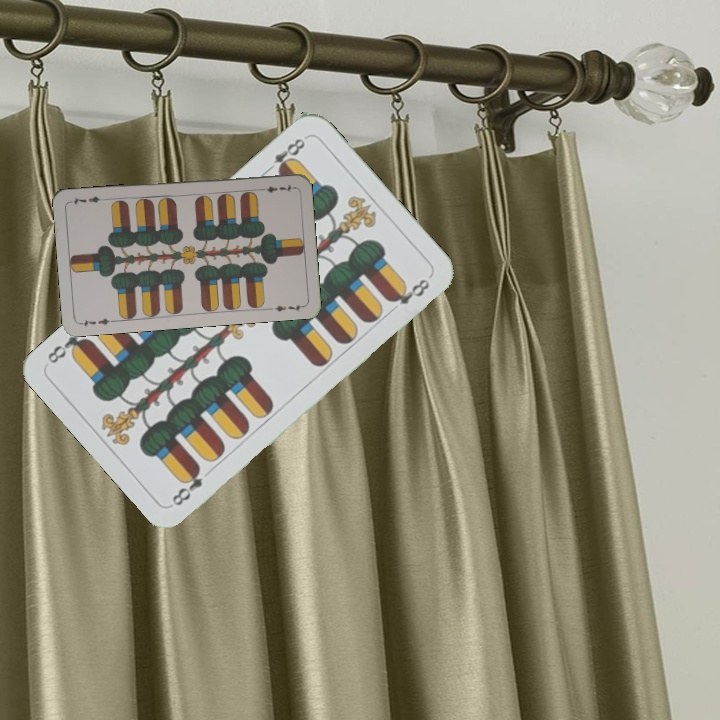E7: (255, 180, 296, 195), (76, 314, 117, 329)
E8: (261, 134, 308, 177), (168, 462, 205, 509)
